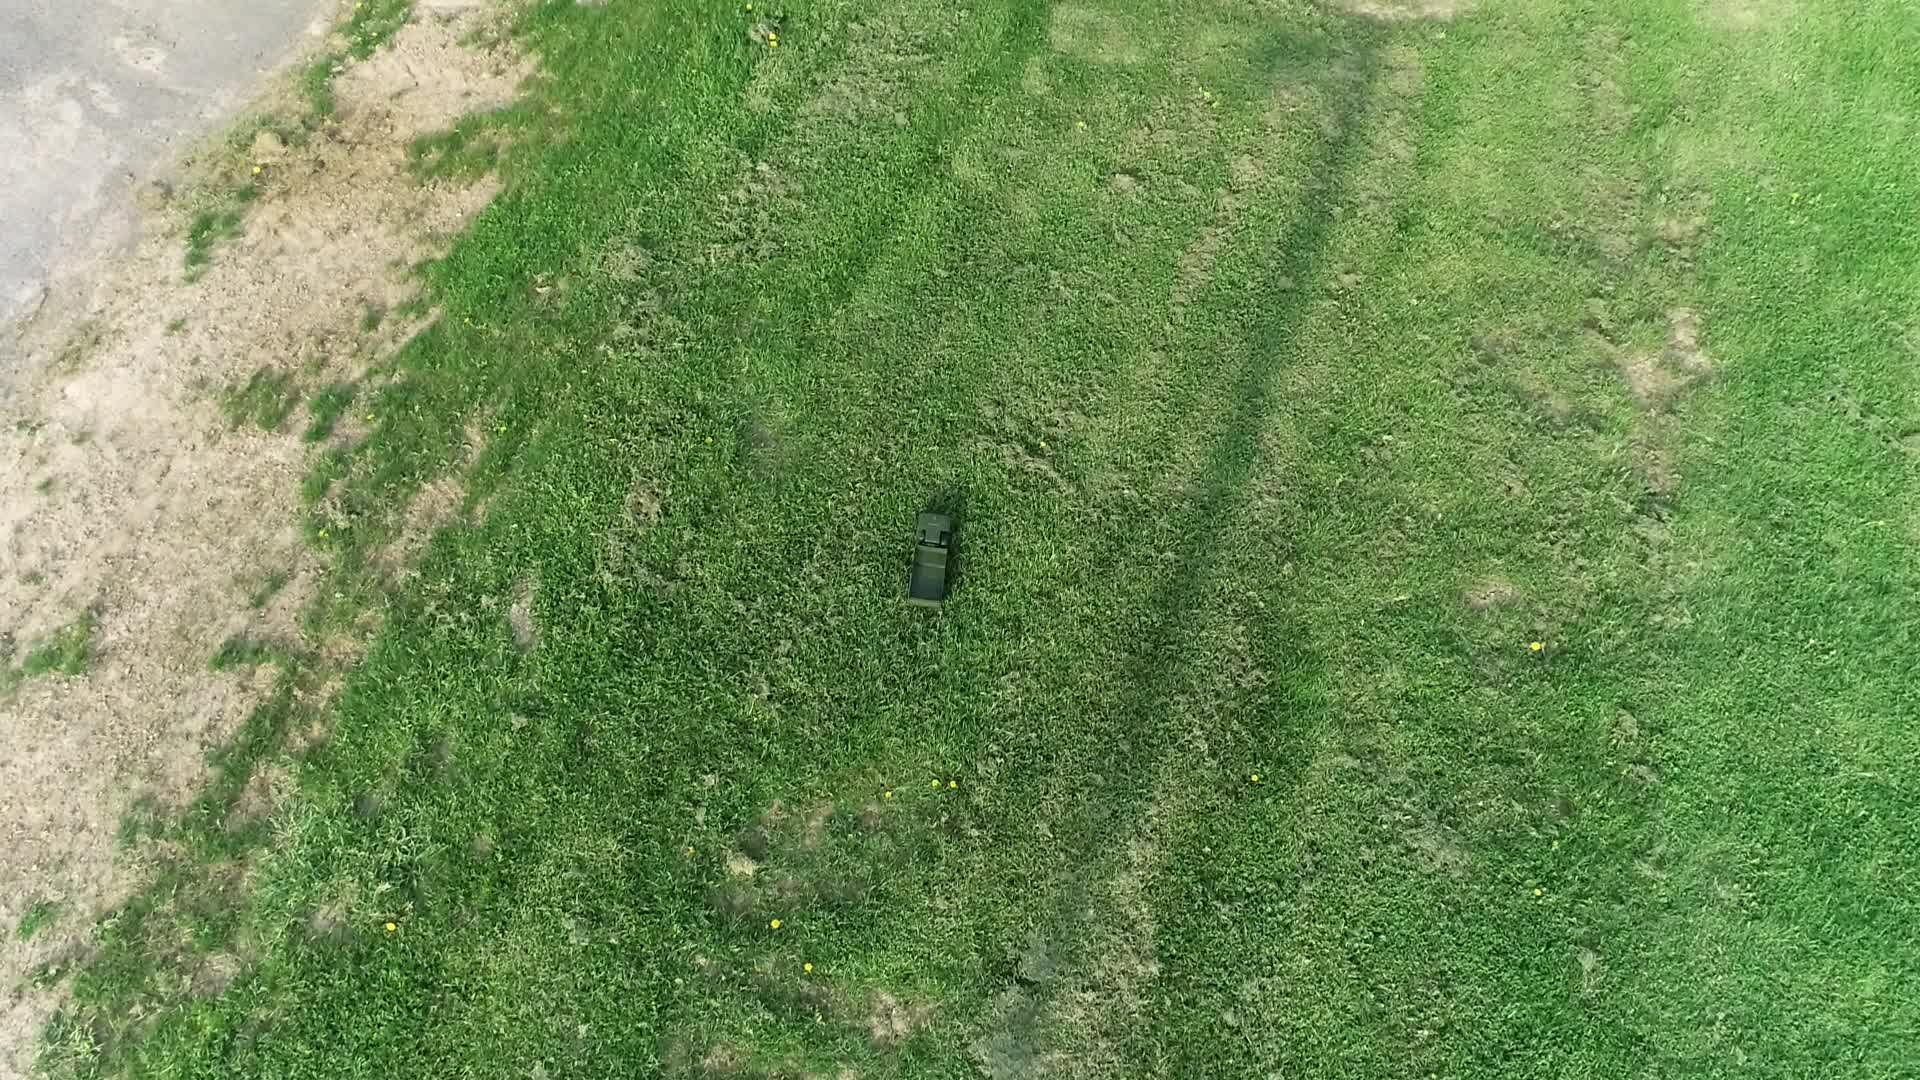transporter9: (902, 506, 957, 612)
